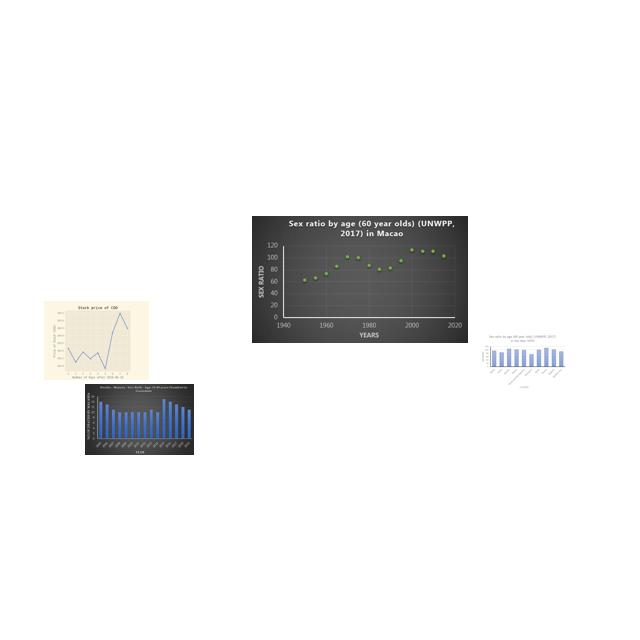Graph: (252, 216, 468, 343), (44, 301, 149, 380), (85, 384, 194, 455), (480, 333, 566, 390)
